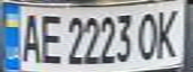2: (63, 11, 84, 66), (81, 11, 100, 66), (100, 11, 118, 65)
3: (115, 10, 136, 64)
A: (15, 9, 42, 64)
E: (36, 10, 63, 65)
K: (154, 6, 184, 60)
O: (136, 7, 160, 61)
